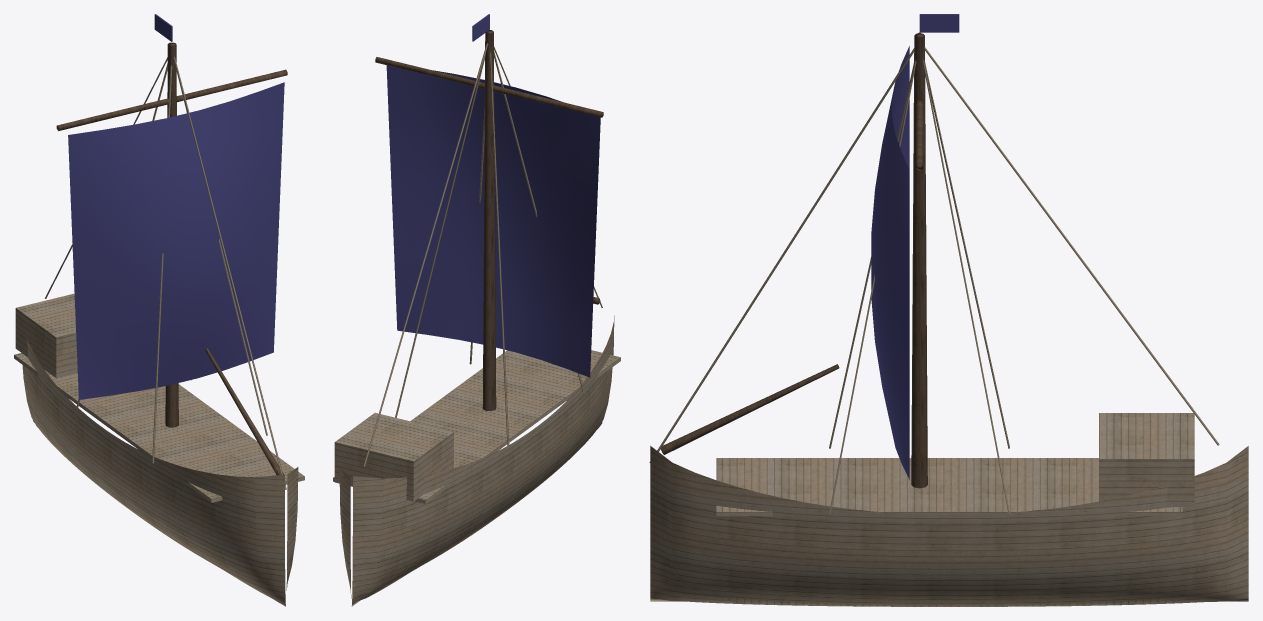
File: ship_0.glb
3 views of the same model, side by side, from view 1: azimuth 30°, elevation 25°; view 2: azimuth 150°, elevation 25°; view 3: azimuth 270°, elevation 25° (orthographic). The views are drawn at different scales.
Parts seen in each view (by area): view 1: ship_0; view 2: ship_0; view 3: ship_0.
Part boxes in pixels (bbox=[...]): ship_0: bbox=[14, 14, 304, 606]; ship_0: bbox=[333, 14, 620, 606]; ship_0: bbox=[649, 14, 1248, 606].
Size of the model in its own units: 9.36 by 19.5 by 18.03.
6 materials, 5 textured.
